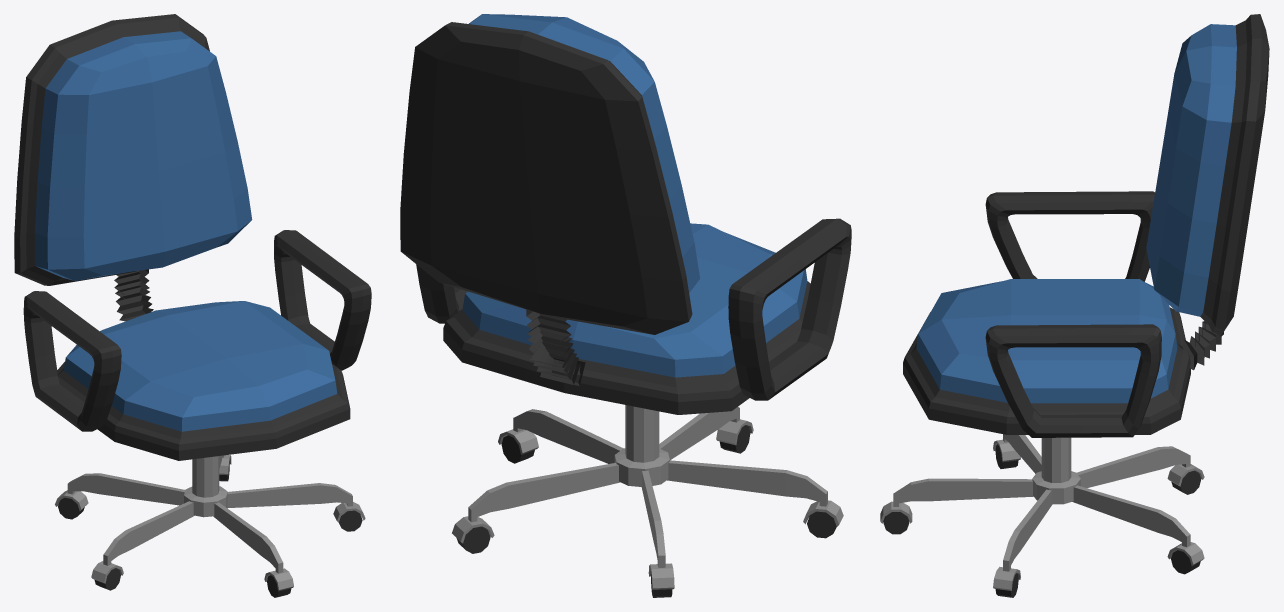
The model's file is OfficeChair.glb.
The picture shows the model from 3 angles, left to right: view 1: azimuth 30°, elevation 25°; view 2: azimuth 150°, elevation 25°; view 3: azimuth 270°, elevation 25°; orthographic projection. The views are drawn at different scales.
Parts seen in each view (by area): view 1: OfficeChair; view 2: OfficeChair; view 3: OfficeChair.
Boxes of the visible parts, x1,y1,x2,y2 form: OfficeChair: [14, 14, 371, 597]; OfficeChair: [400, 14, 851, 597]; OfficeChair: [880, 14, 1269, 597].
Size of the model in its own units: 0.4799 by 0.7498 by 0.5368.
3 materials, 3 textured.
